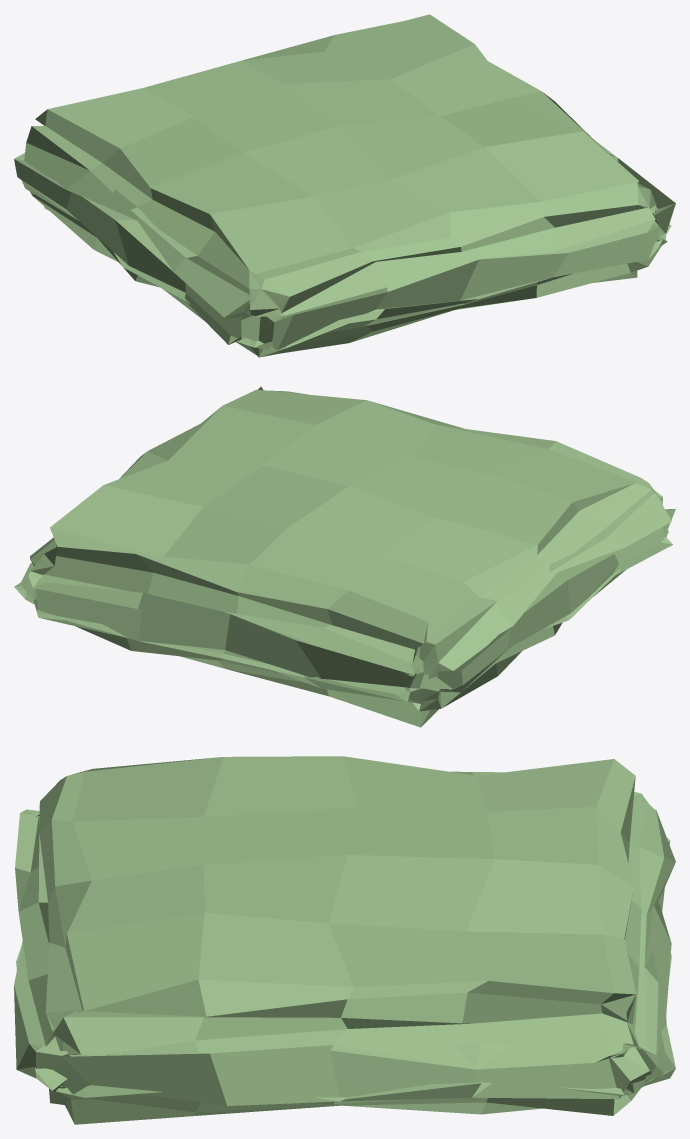
The model's file is golem_moss_patch_01.glb.
The picture shows the model from 3 angles, top to bottom: view 1: azimuth 30°, elevation 25°; view 2: azimuth 150°, elevation 25°; view 3: azimuth 270°, elevation 25°; orthographic projection. The views are drawn at different scales.
Visible parts, largest first — view 1: golem_moss_patch; view 2: golem_moss_patch; view 3: golem_moss_patch.
Boxes of the visible parts, x1,y1,x2,y2 form: golem_moss_patch: (14, 14, 675, 357); golem_moss_patch: (14, 386, 675, 727); golem_moss_patch: (14, 756, 675, 1124).
Bounding box in the file's own units: 0.8432 × 0.2123 × 0.8429.
